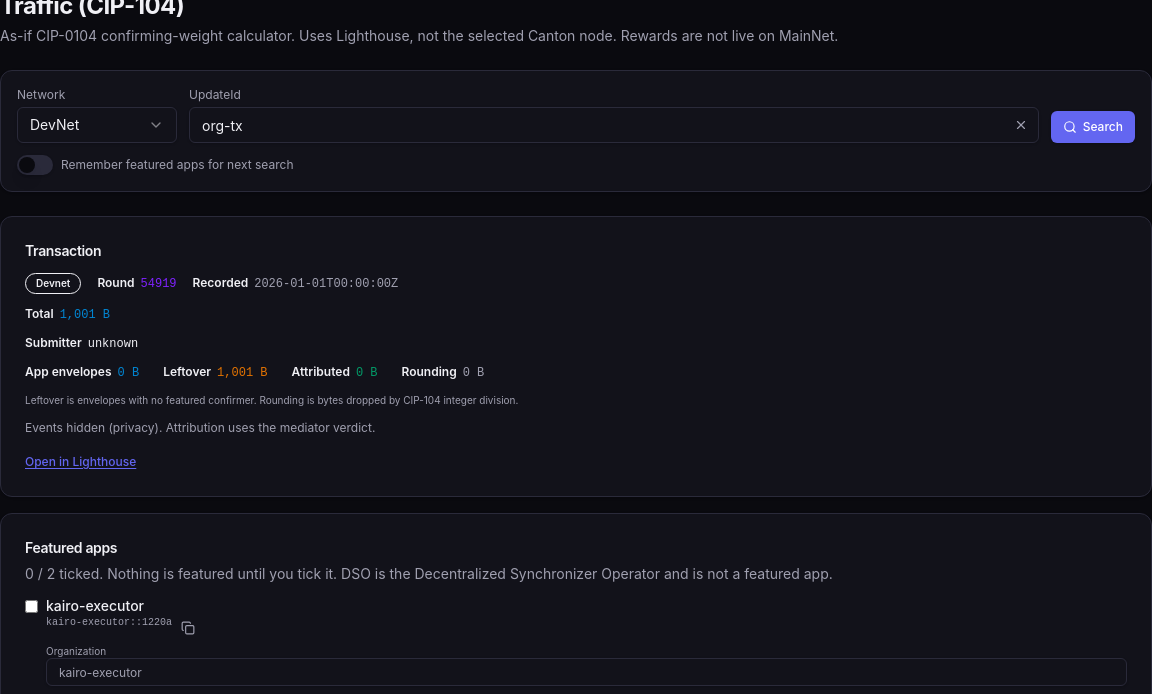
Test: TrafficAttributionPage searches › shows rounding residue and sums weights by organization
Check: the text "kairo-executor" is shown, box [46,597,144,614]
Click the checkbox labelled "kairo-executor".
click(32, 606)  # box [25,600,38,613]
(page scrolled)
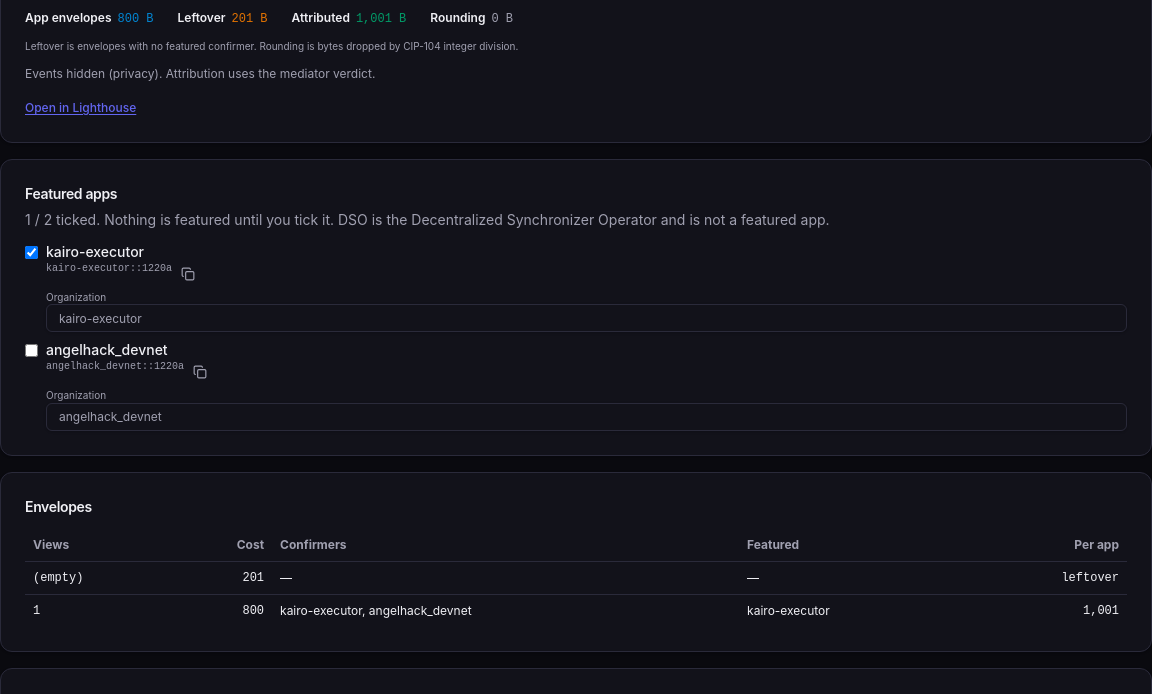
Click the checkbox labelled "angelhack_devnet".
click(32, 351)  # box [25,344,38,357]
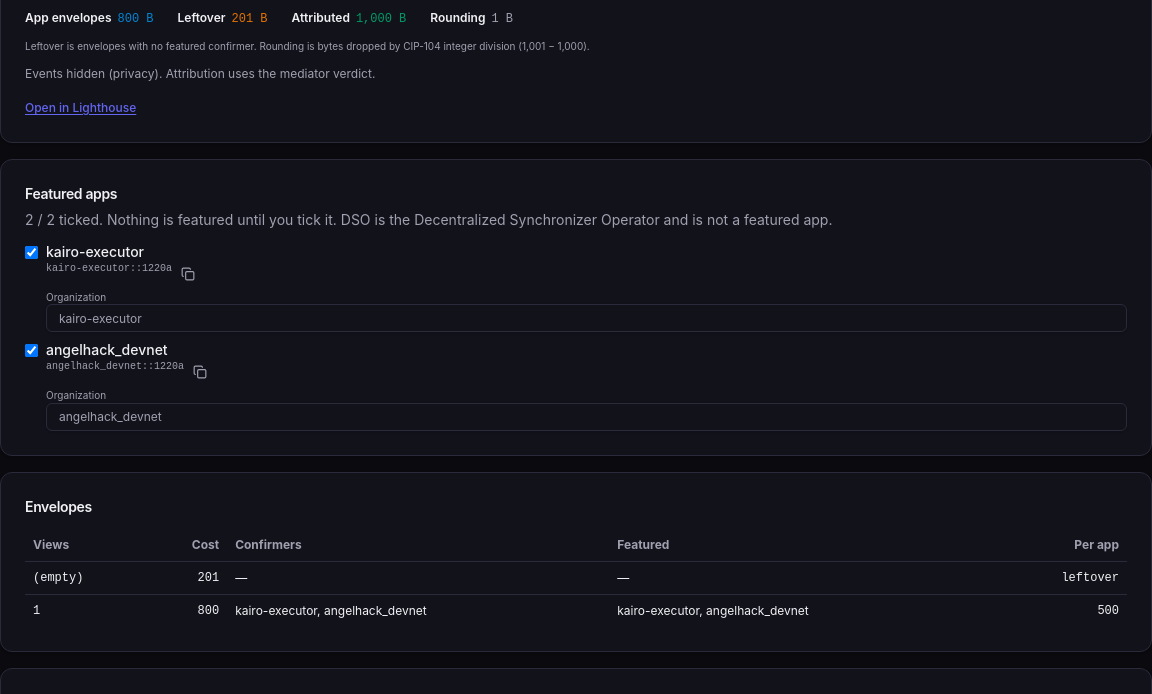
Check: the text with test id "tx-rounding" reads "1 B", box [492,12,513,26]
Type "AH" into the field named "Organization for kairo-executor".
click(586, 318); type("AH")  # box [46,304,1127,332]
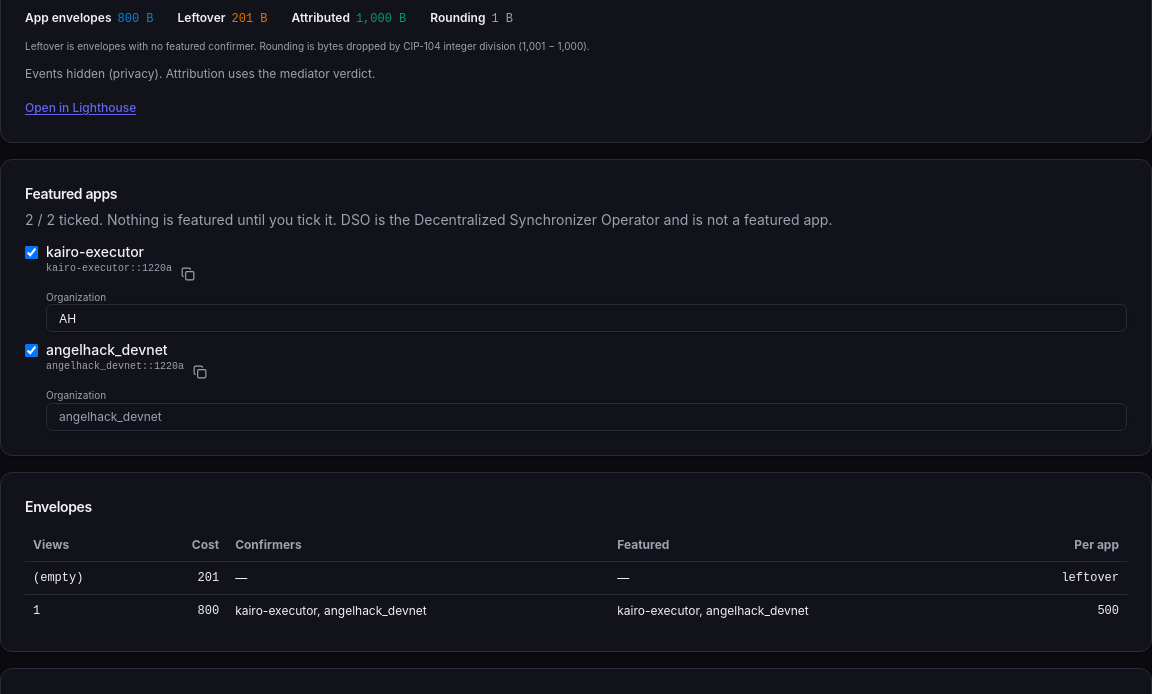
Type "AH" into the field named "Organization for angelhack_devnet".
click(586, 417); type("AH")  # box [46,403,1127,431]
(page scrolled)
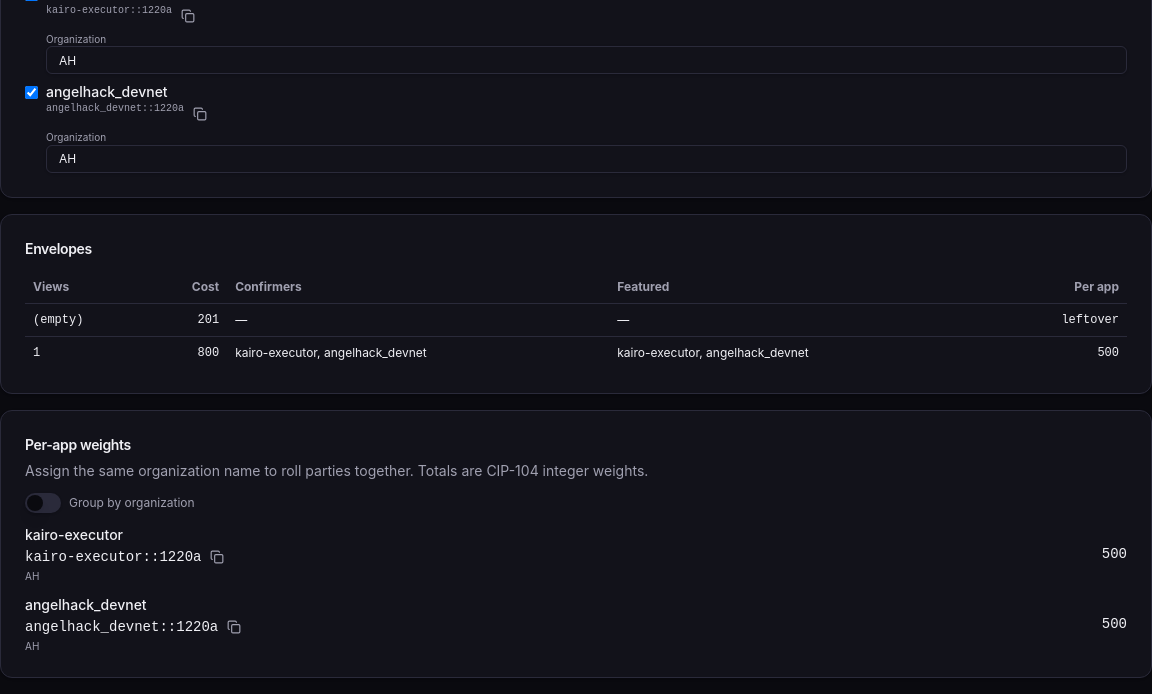
Click the switch named "Group by organization".
click(43, 503)  # box [25,493,61,513]
(page scrolled)
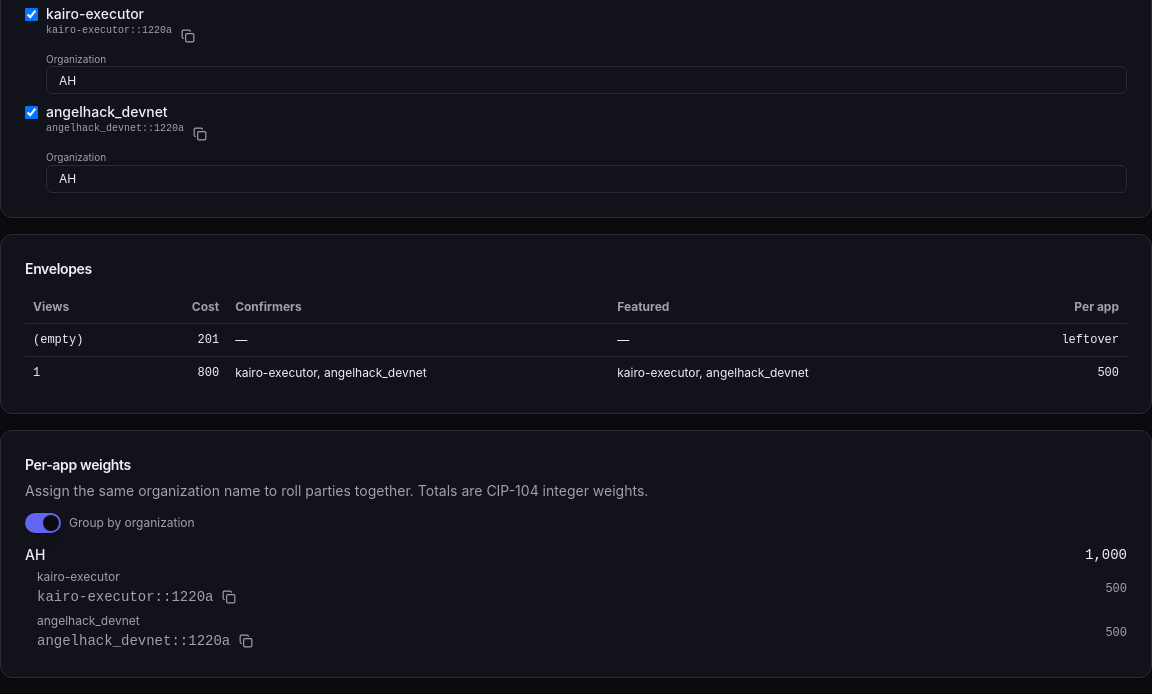
Check: the element with test id "org-group-AH" is shown, box [25,545,1127,653]
Check: the text with test id "org-weight-AH" reads "1,000", box [1085,547,1127,563]
